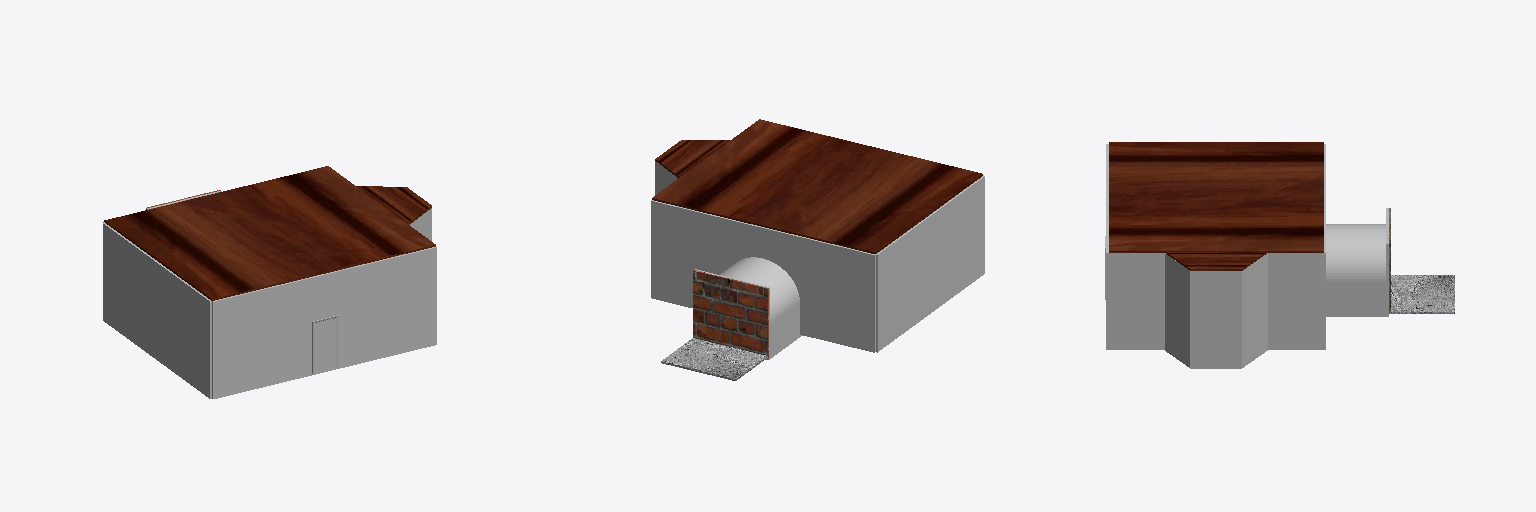
The picture shows the model from 3 angles: view 1: azimuth 30°, elevation 25°; view 2: azimuth 150°, elevation 25°; view 3: azimuth 270°, elevation 25°; orthographic projection.
Size of the model in its own units: 14.1 by 5.24 by 16.22.
8 materials, 3 textured.